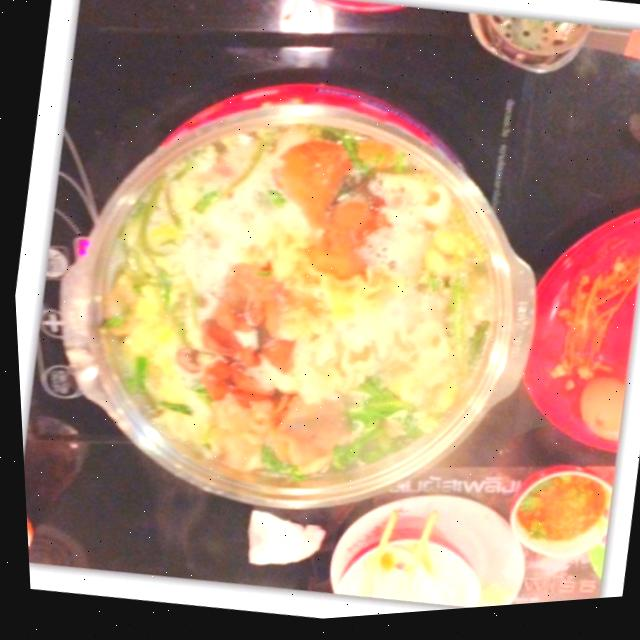汤锅炖物: (11, 13, 592, 596)
